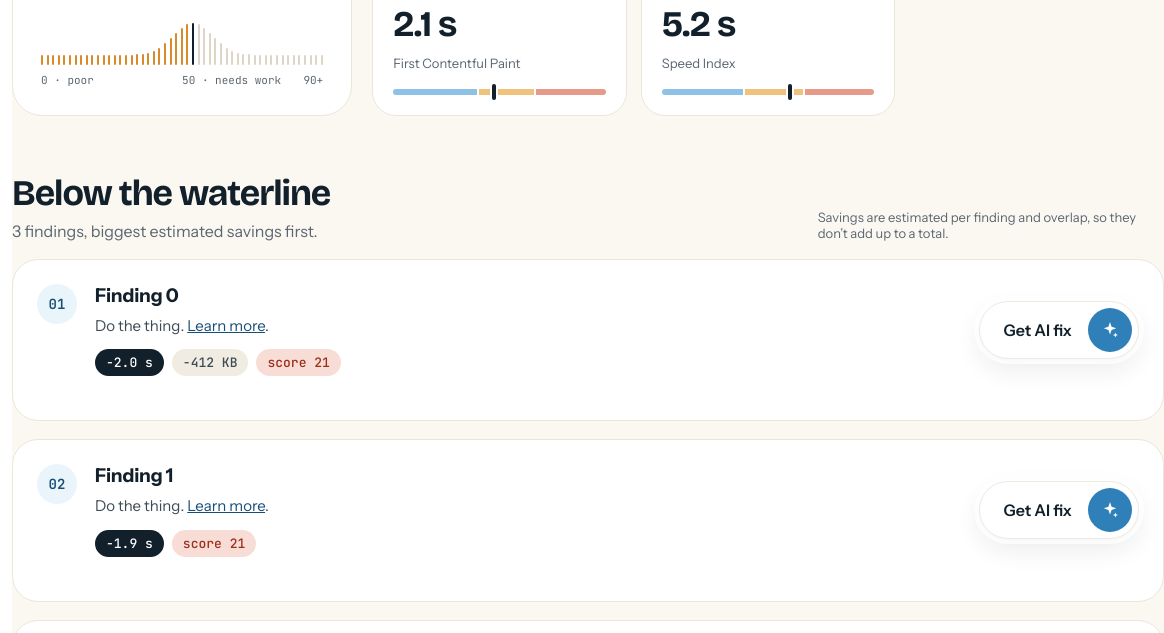
Test: fix panel polish › hides the where block when the server sends nothing
(page scrolled)
Click the button "Get AI fix" in the row of "412 KB".
click(1059, 330)  # box [978, 301, 1139, 359]
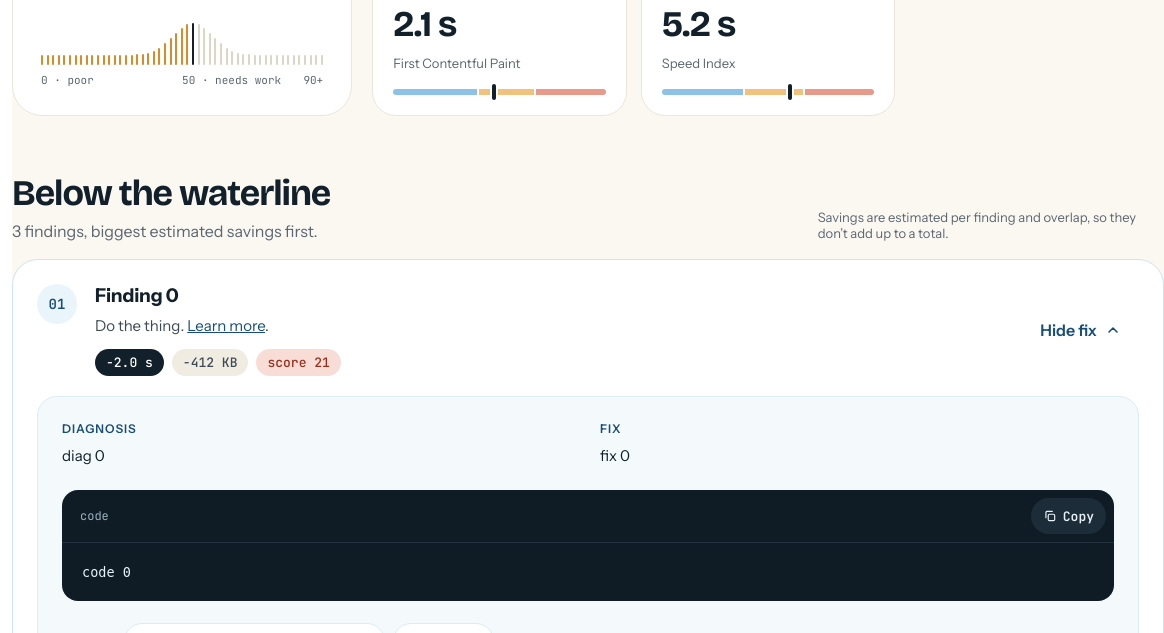
Expected: the text "diag 0" is shown, [62, 446, 105, 465]
